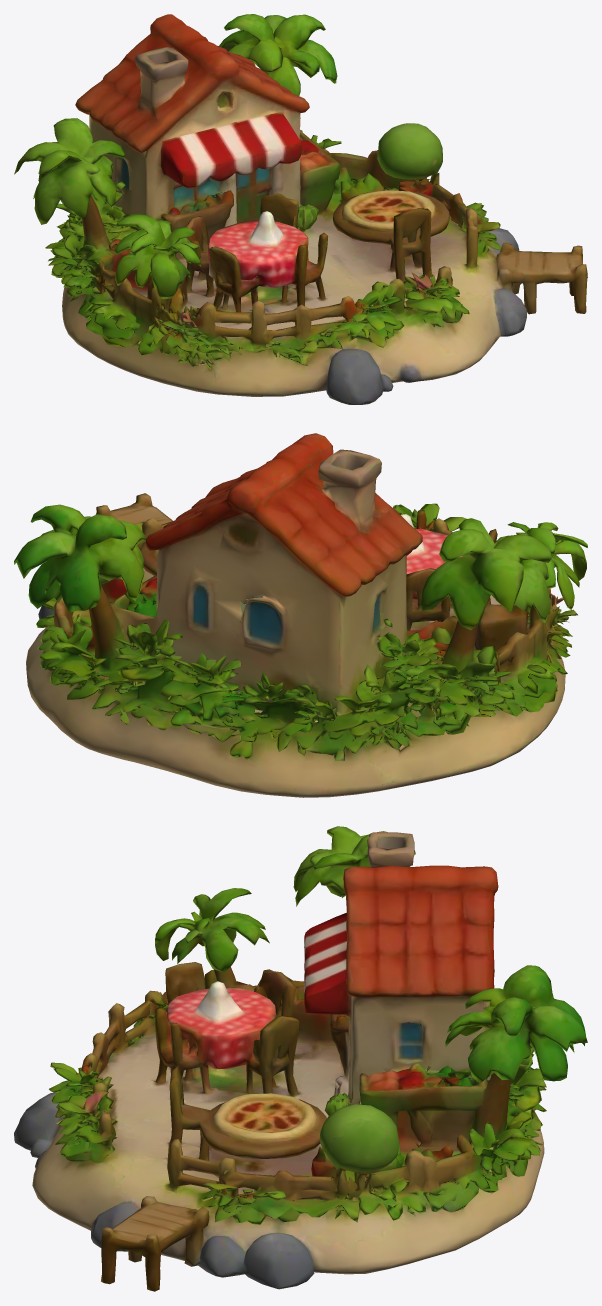
File: isl-11.glb
The picture shows the model from 3 angles, top to bottom: view 1: azimuth 30°, elevation 25°; view 2: azimuth 150°, elevation 25°; view 3: azimuth 270°, elevation 25°; orthographic projection. The views are drawn at different scales.
Parts seen in each view (by area): view 1: world; view 2: world; view 3: world.
Part boxes in pixels (<box>): world: <box>14,14,587,404</box>; world: <box>14,433,587,797</box>; world: <box>14,826,587,1291</box>.
Size of the model in its own units: 0.9955 by 0.497 by 0.9275.
1 material, 1 textured.
